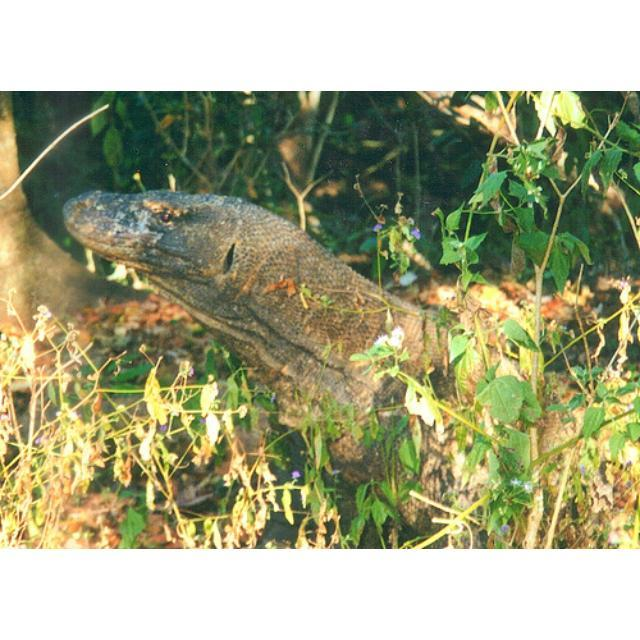KomodoDragon: (60, 186, 636, 546)
